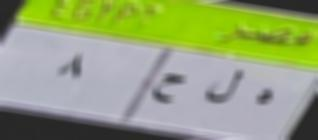7aa: (151, 68, 185, 110)
8: (58, 50, 82, 82)
haa: (252, 80, 276, 114)
laam: (200, 62, 243, 111)
